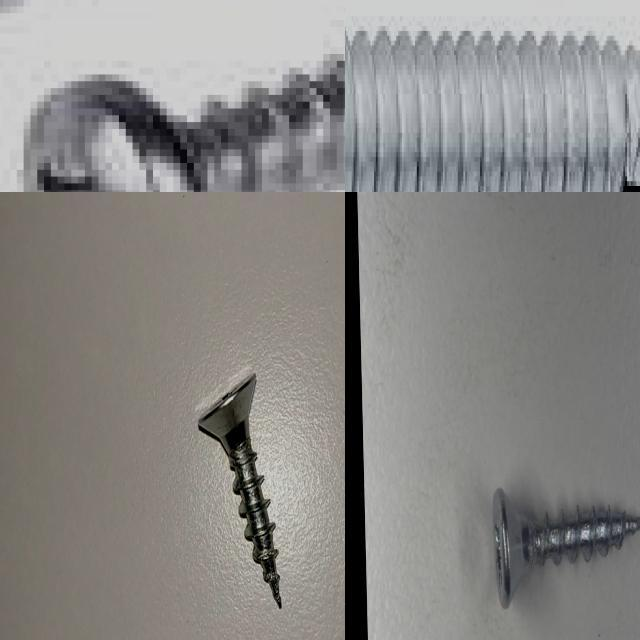Screw: (345, 26, 640, 192), (24, 54, 345, 192), (198, 373, 282, 608), (492, 488, 640, 608)
